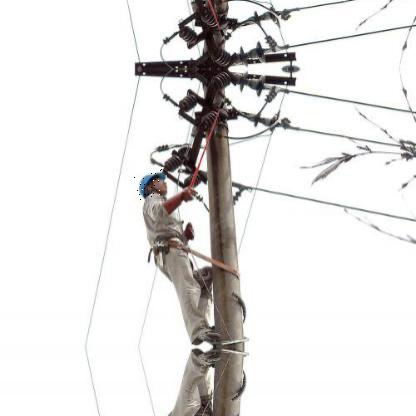safetyhelmet: (134, 167, 168, 202)
